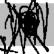not correct: (5, 1, 50, 54)
